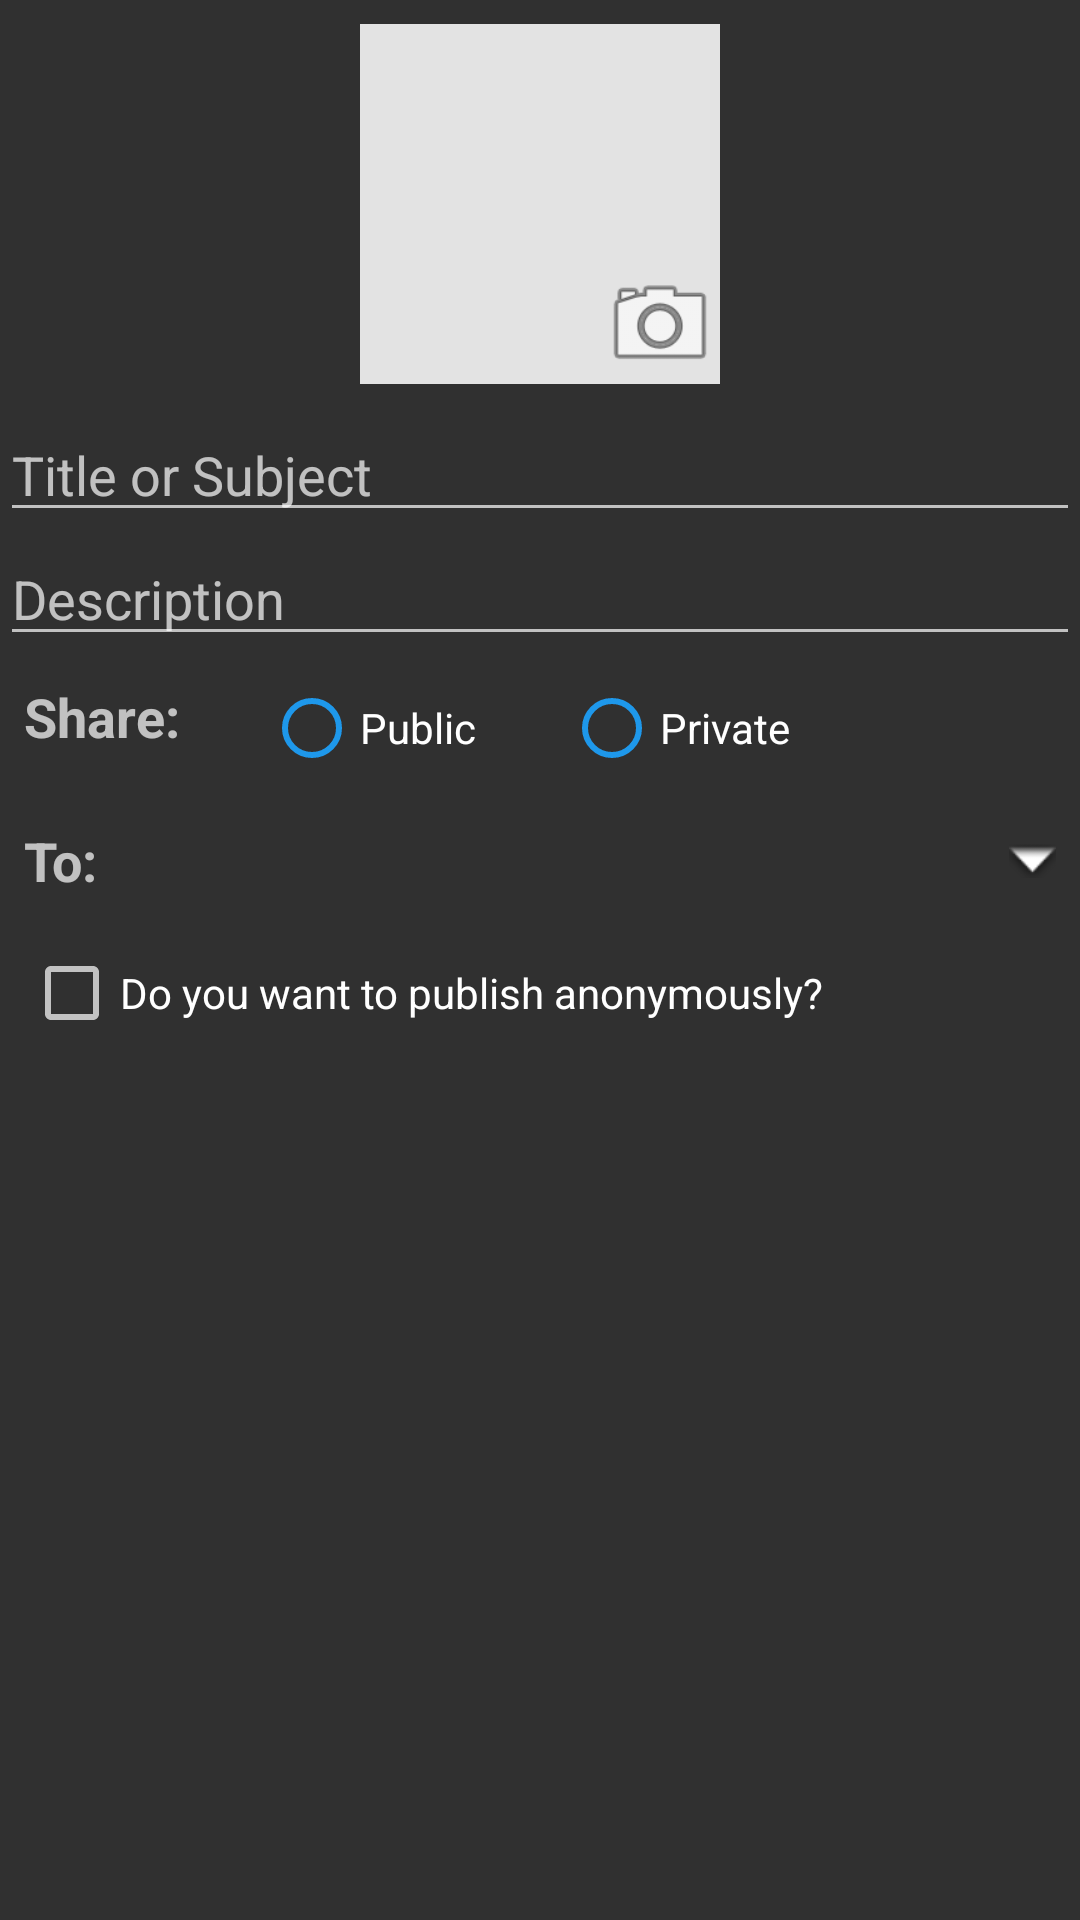

Where to tap for icons on this 1080 × 1920 app screen, as [x,y]:
camera: [660,322]
